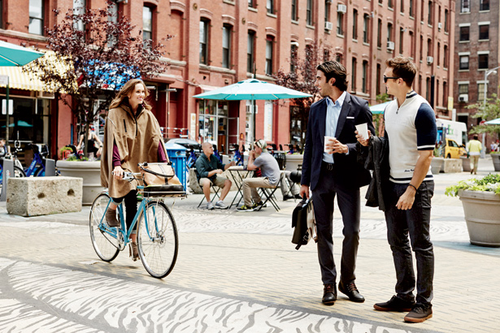bikerider: (85, 73, 186, 286)
